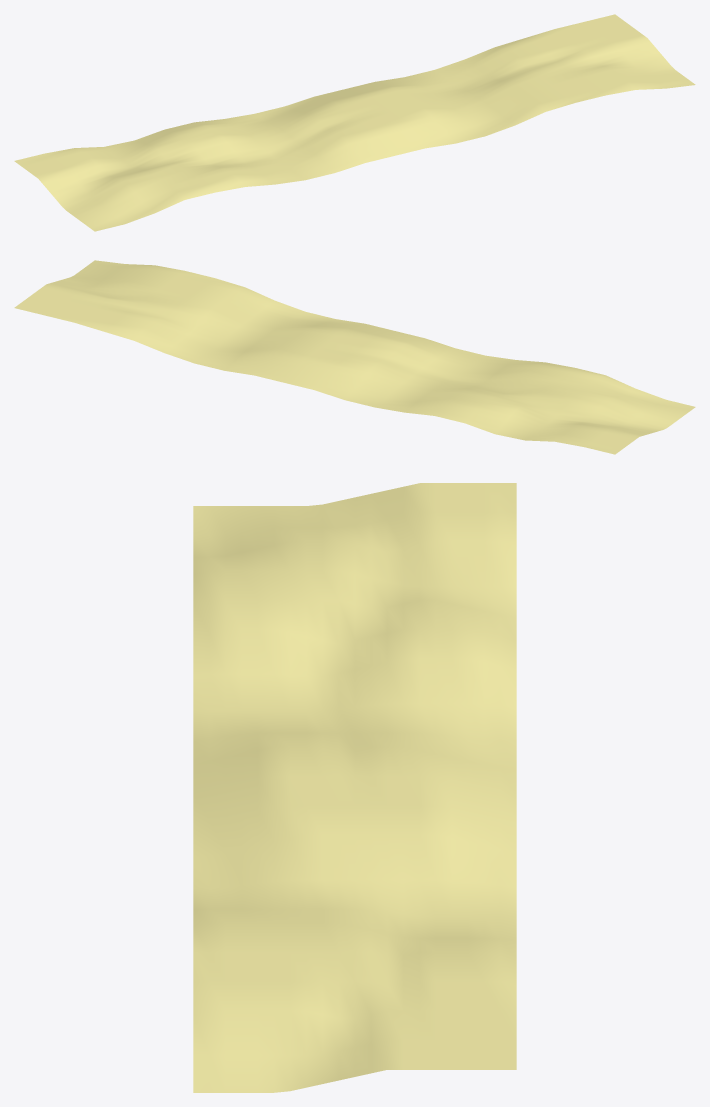
The model's file is props49.fbx.
The picture shows the model from 3 angles, top to bottom: view 1: azimuth 30°, elevation 25°; view 2: azimuth 150°, elevation 25°; view 3: azimuth 270°, elevation 25°; orthographic projection. The views are drawn at different scales.
Parts seen in each view (by area): view 1: Plane; view 2: Plane; view 3: Plane.
Boxes of the visible parts, x1,y1,x2,y2 form: Plane: (14, 14, 695, 231); Plane: (14, 260, 695, 454); Plane: (193, 483, 516, 1092).
Bounding box in the file's own units: 1324 × 24.17 × 308.
